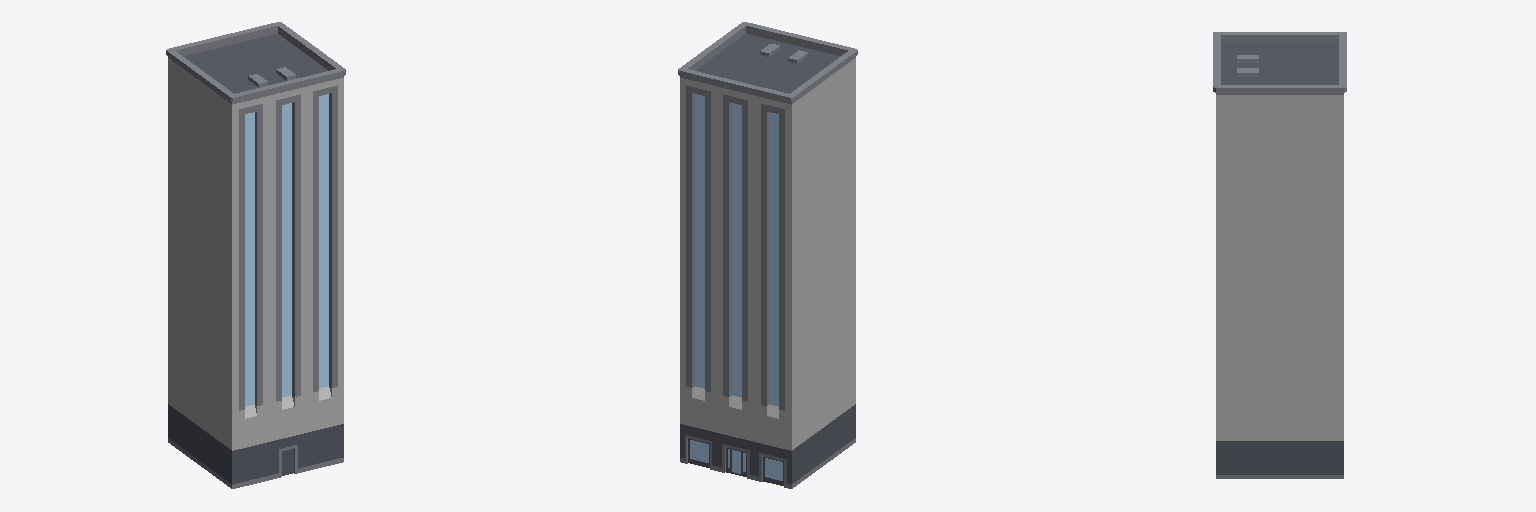
File: city_skyscraper_f.obj
3 views of the same model, side by side, from view 1: azimuth 30°, elevation 25°; view 2: azimuth 150°, elevation 25°; view 3: azimuth 270°, elevation 25° (orthographic).
Visible parts, largest first — view 1: mergedBlocks; view 2: mergedBlocks; view 3: mergedBlocks.
Boxes of the visible parts, <box> form: mergedBlocks: <box>166,22,345,488</box>; mergedBlocks: <box>678,22,857,488</box>; mergedBlocks: <box>1213,32,1346,478</box>.
Bounding box in the file's own units: 1 × 3.26 × 1.